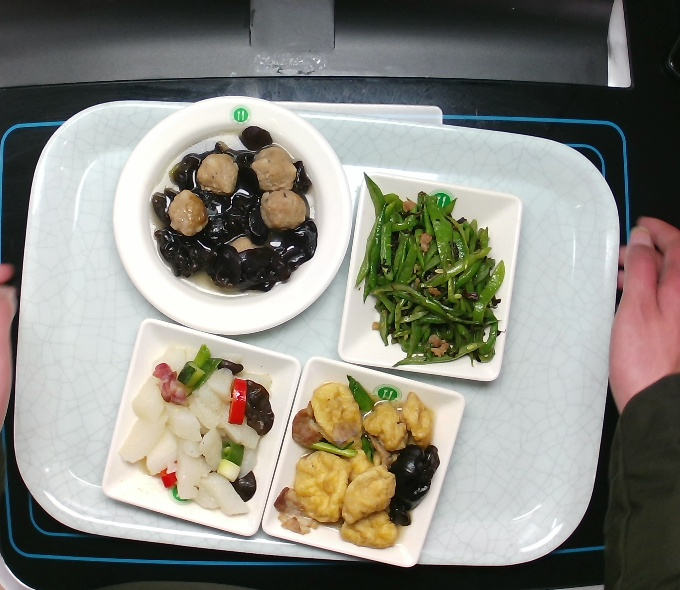wcq-MuErWanZi: (141, 120, 317, 297)
wcq-ShanYao: (122, 344, 276, 520)
wcq-SiJiDouChaoRou: (355, 166, 510, 374)
wcq-YouPaoRouPian: (274, 377, 439, 553)
